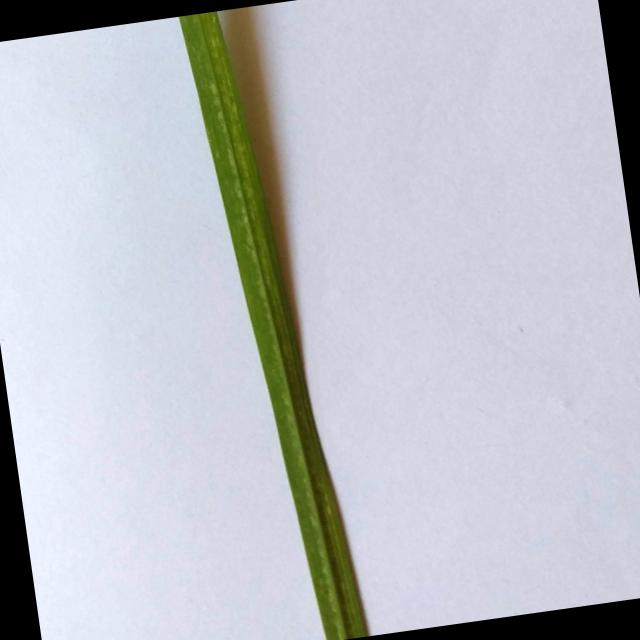Rice_Healthy: (179, 11, 369, 640)
